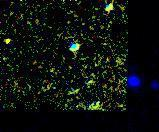star: (0, 26, 22, 56)
